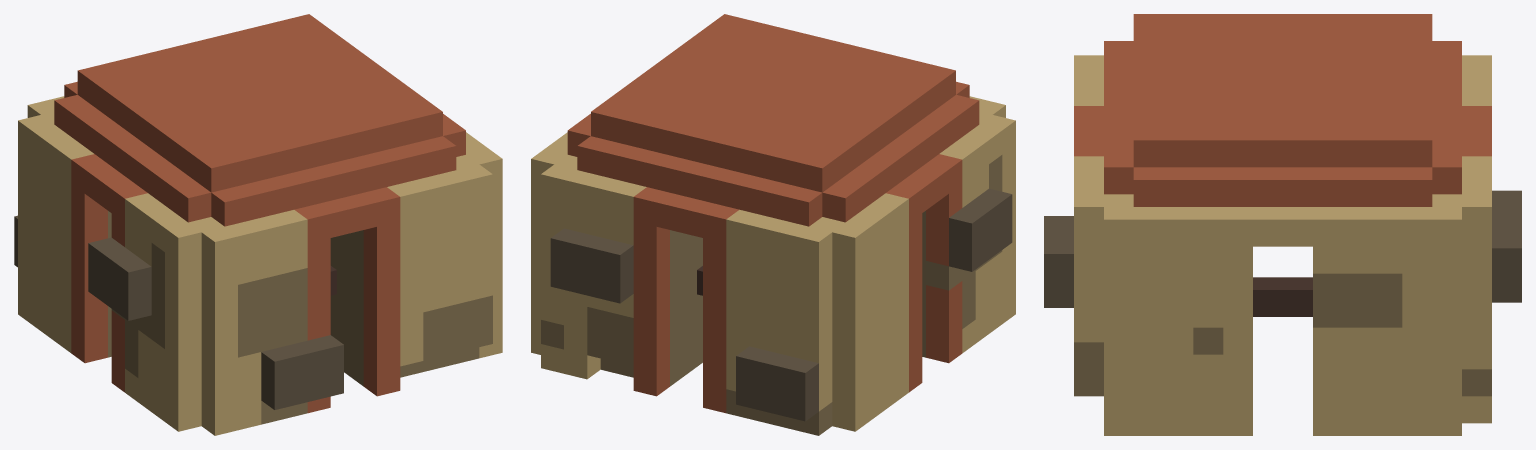
The model's file is SmallBuilding04-0.obj.
The picture shows the model from 3 angles, left to right: view 1: azimuth 30°, elevation 25°; view 2: azimuth 150°, elevation 25°; view 3: azimuth 270°, elevation 25°; orthographic projection. The views are drawn at different scales.
Bounding box in the file's own units: 1.5 × 1 × 1.6.
1 material, 1 textured.
